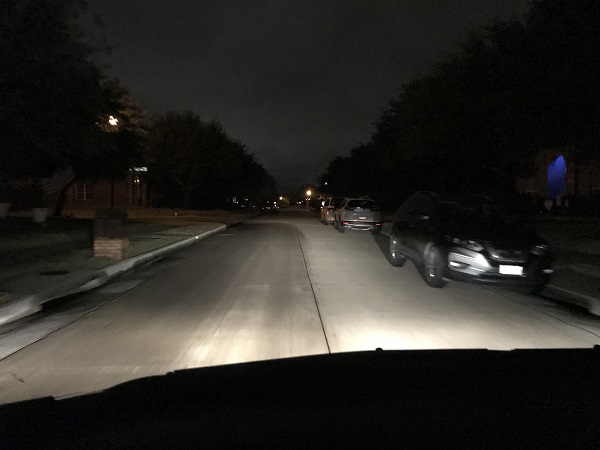car: (382, 194, 554, 288), (332, 196, 383, 234), (319, 196, 337, 222)
